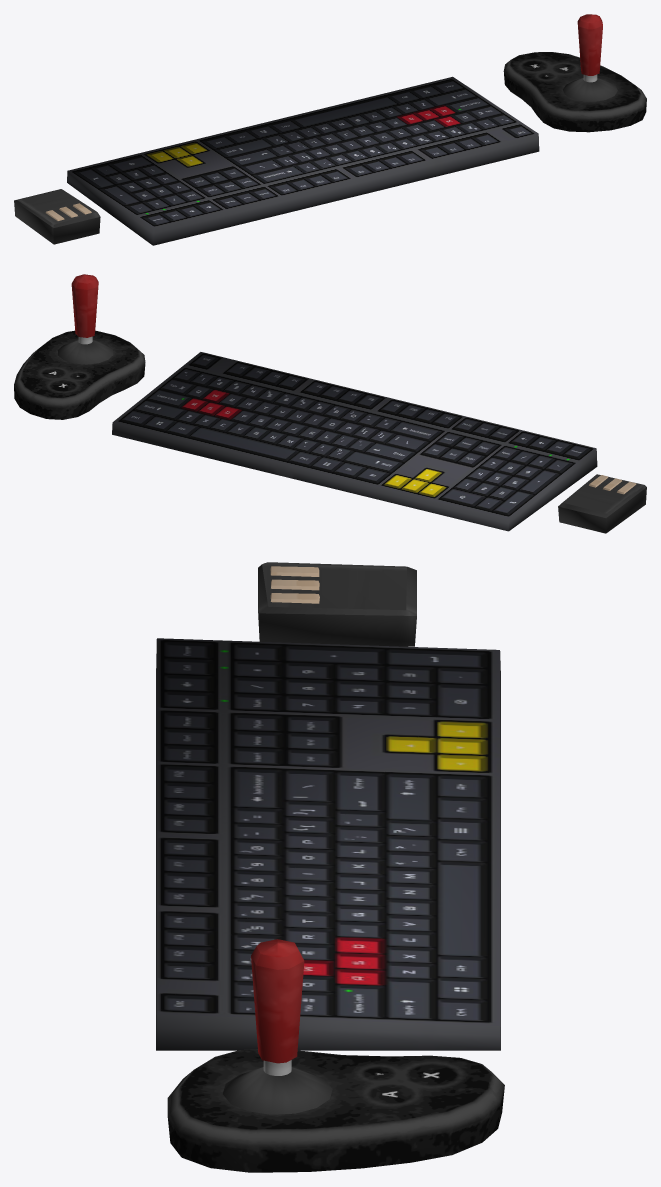
File: ELT0110006.fbx
The picture shows the model from 3 angles, top to bottom: view 1: azimuth 30°, elevation 25°; view 2: azimuth 150°, elevation 25°; view 3: azimuth 270°, elevation 25°; orthographic projection. The views are drawn at different scales.
Visible parts, largest first — view 1: smELT0110006; view 2: smELT0110006; view 3: smELT0110006.
Part boxes in pixels (left/top/right/bottom): smELT0110006: left=14, top=14, right=646, bottom=245; smELT0110006: left=14, top=274, right=646, bottom=533; smELT0110006: left=156, top=562, right=504, bottom=1172.
Bounding box in the file's own units: 80.73 × 12.4 × 20.82.
1 material, 1 textured.
